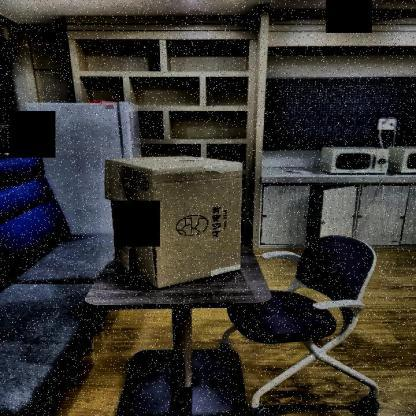-: (101, 148, 249, 294)
